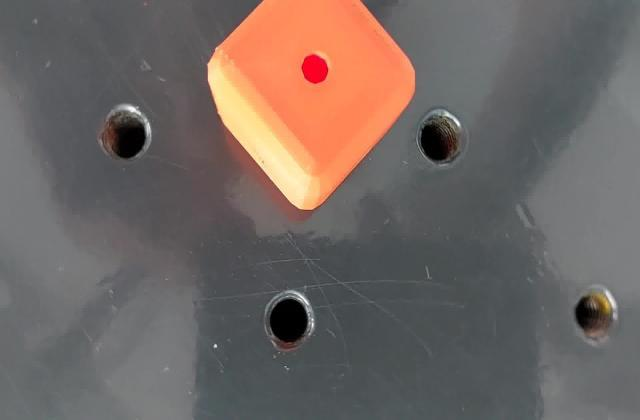cube: (203, 2, 420, 216)
